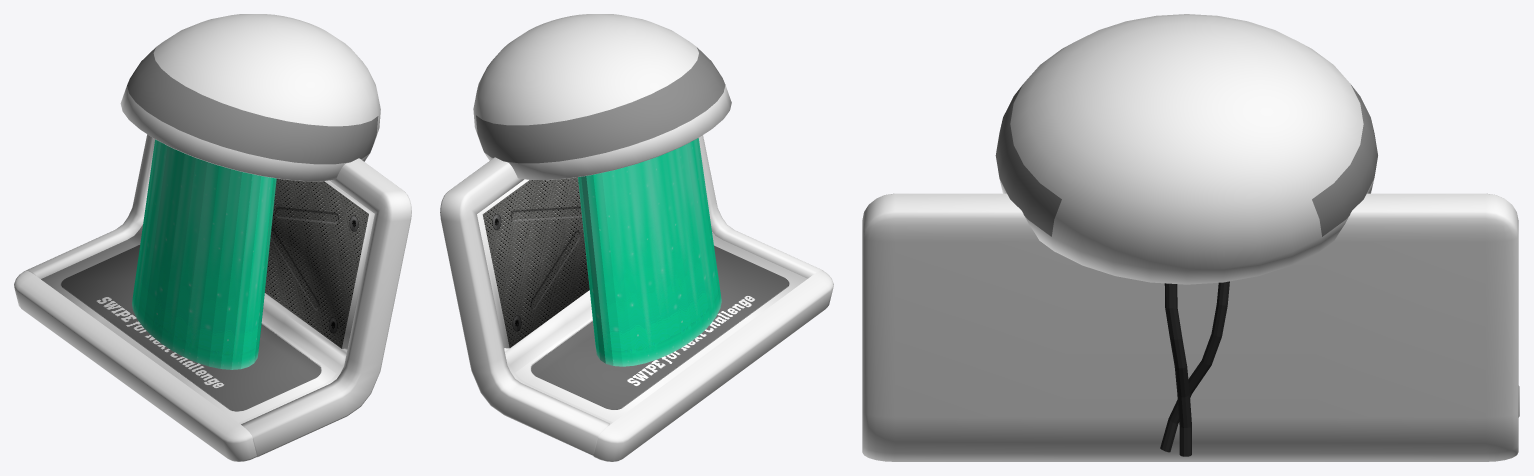
The model's file is swiper.fbx.
The picture shows the model from 3 angles, left to right: view 1: azimuth 30°, elevation 25°; view 2: azimuth 150°, elevation 25°; view 3: azimuth 270°, elevation 25°; orthographic projection. The views are drawn at different scales.
Visible parts, largest first — view 1: Cube.002, Cube.001, Cylinder, Cube.003; view 2: Cube.002, Cube.001, Cylinder, Cube.003; view 3: Cube.002, Cube.001, Cube.004.
Boxes of the visible parts, x1,y1,x2,y2 form: Cube.002: (26, 134, 411, 457); Cube.001: (120, 14, 380, 181); Cylinder: (132, 139, 276, 369); Cube.003: (14, 270, 257, 461); Cube.002: (440, 135, 822, 455); Cube.001: (473, 14, 731, 180); Cylinder: (578, 138, 721, 366); Cube.003: (593, 270, 833, 461); Cube.002: (862, 193, 1518, 461); Cube.001: (995, 14, 1377, 284); Cube.004: (1160, 281, 1229, 456).
Size of the model in its own units: 25.43 by 32.69 by 41.54.
6 materials, 3 textured.
